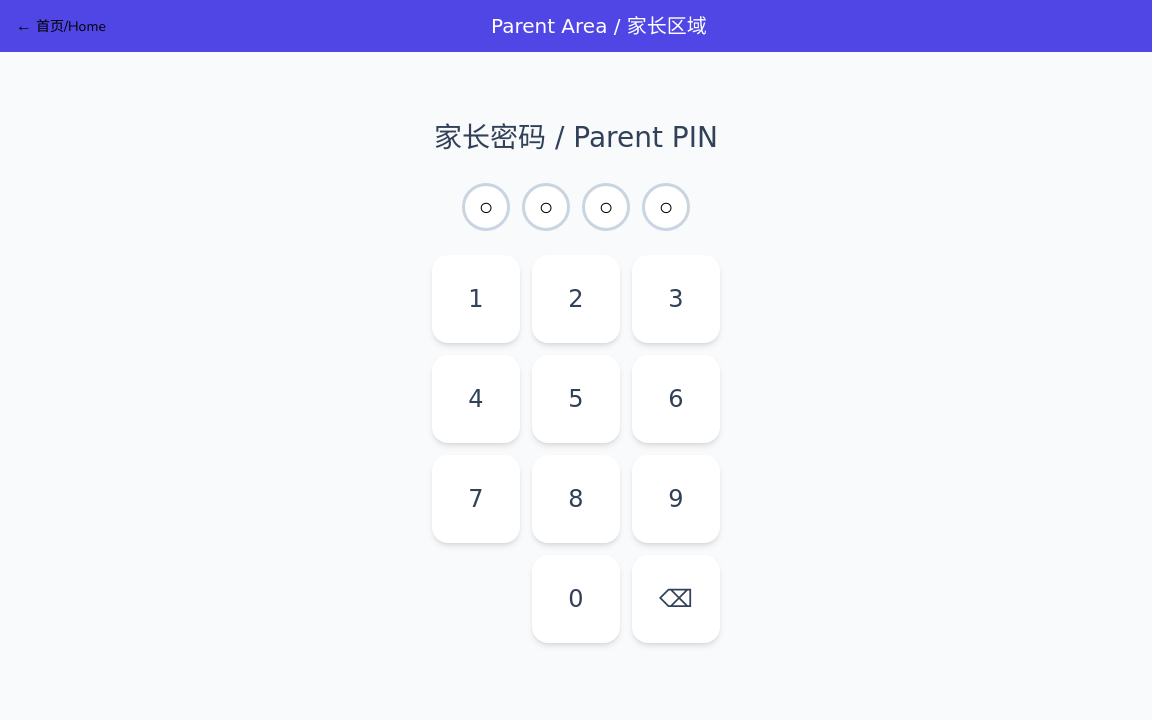
Test: ParentPage (PIN entry) › shows error when no PIN is set (pinHash is empty)
Click the button with test id "pin-key-1": (476, 299) [432, 255, 520, 343]
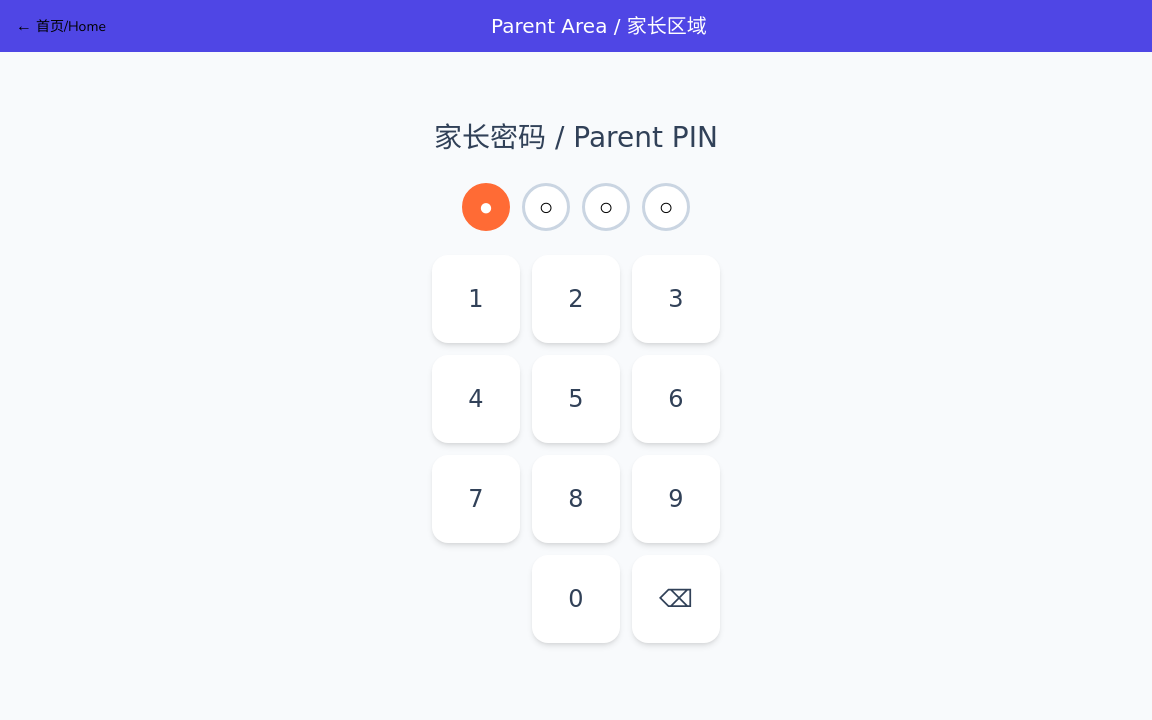
Click the button with test id "pin-key-2": (576, 299) [532, 255, 620, 343]
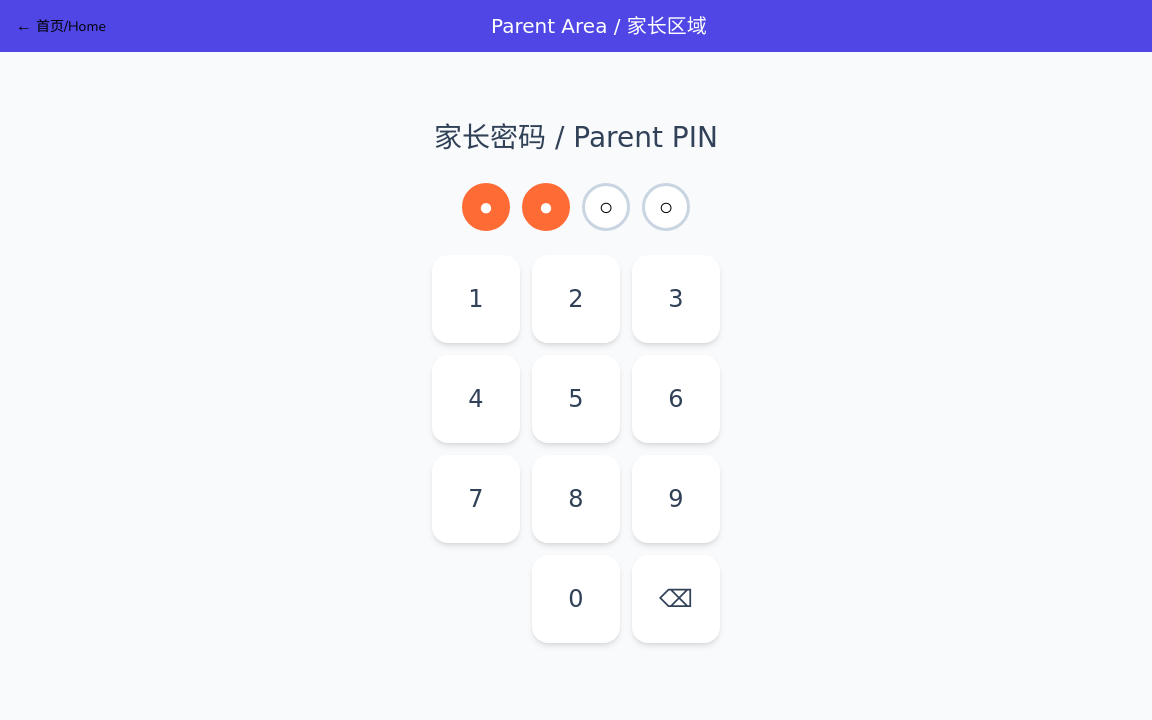
Click the button with test id "pin-key-3": (676, 299) [632, 255, 720, 343]
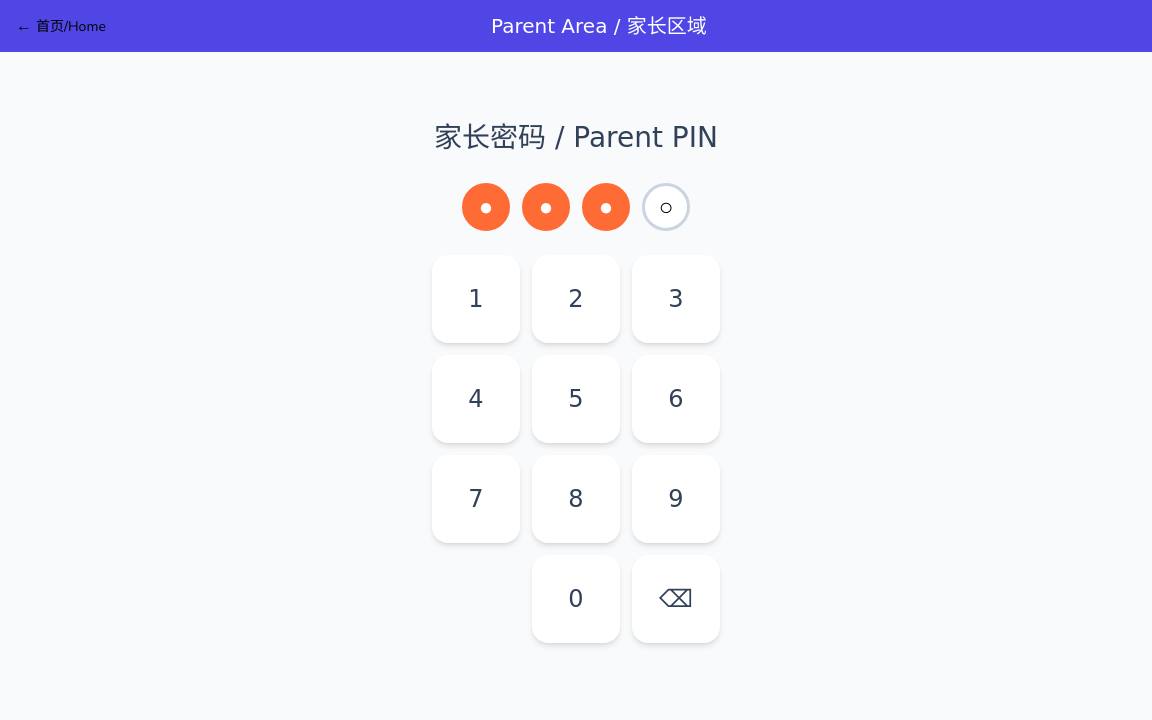
Click the button with test id "pin-key-4": (476, 399) [432, 355, 520, 443]
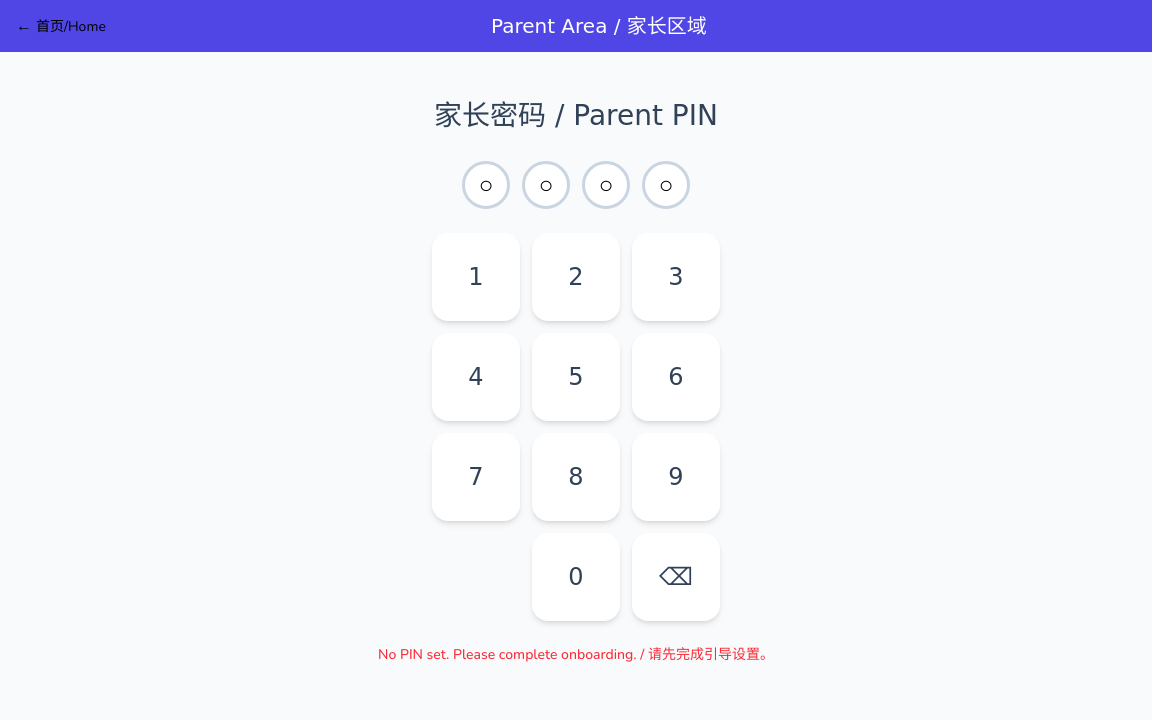
Expected: the text "No PIN set. Please complete onboarding. / 请先完成引导设置。" is shown, [378, 645, 774, 665]
